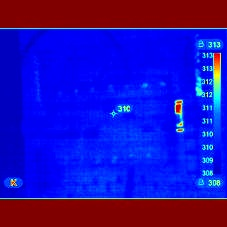Less: (175, 114, 184, 132)
